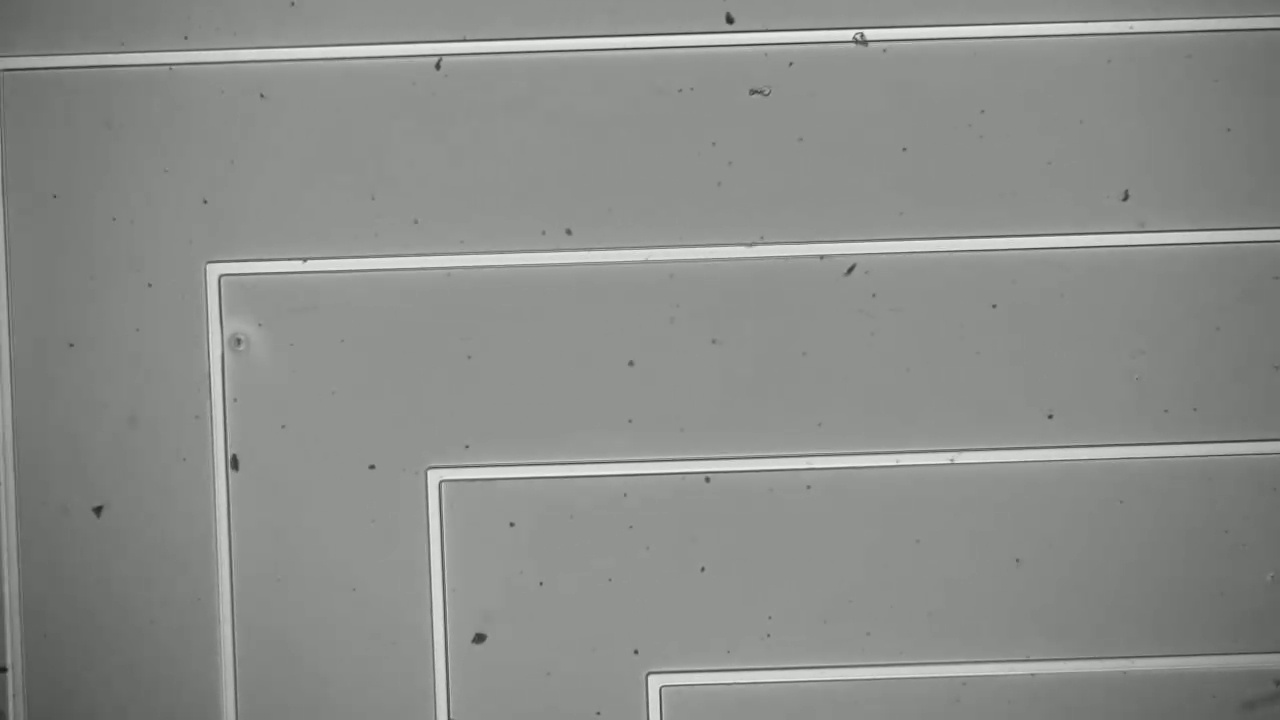stains_enbedded: (837, 24, 876, 53)
